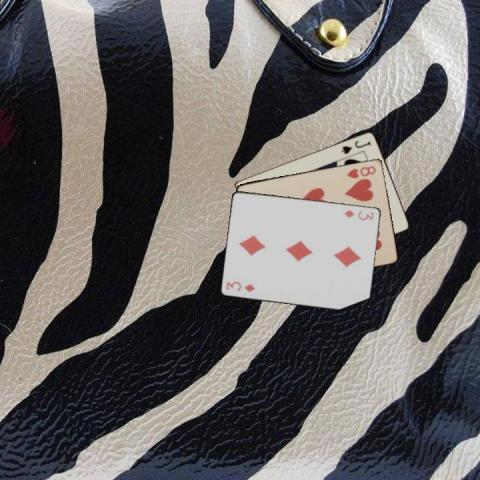3d: (342, 207, 376, 221), (223, 279, 257, 293)
8h: (344, 163, 377, 179)
Js: (338, 138, 372, 156)
